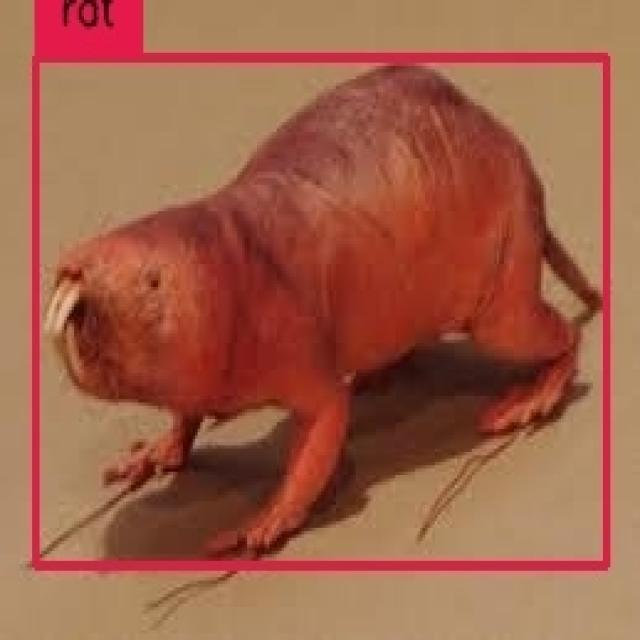rat: (36, 58, 606, 566)
